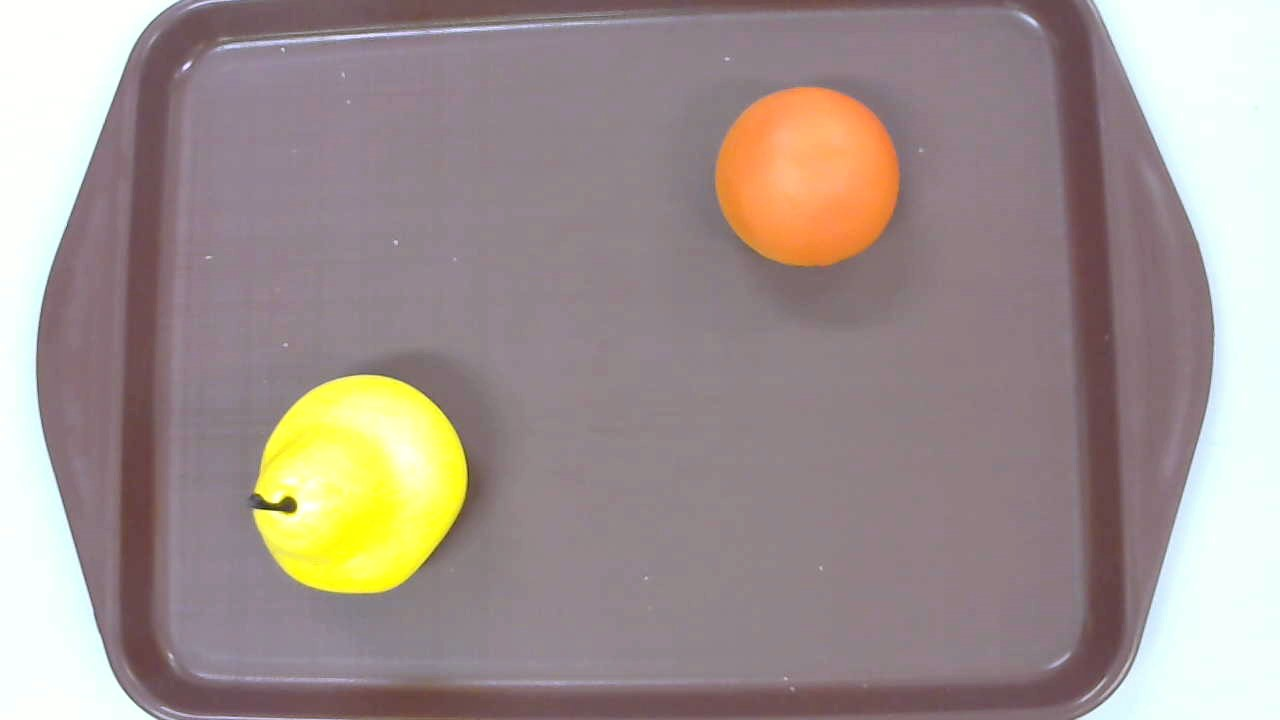bun: (714, 86, 898, 268)
yellow pear: (248, 375, 467, 594)
